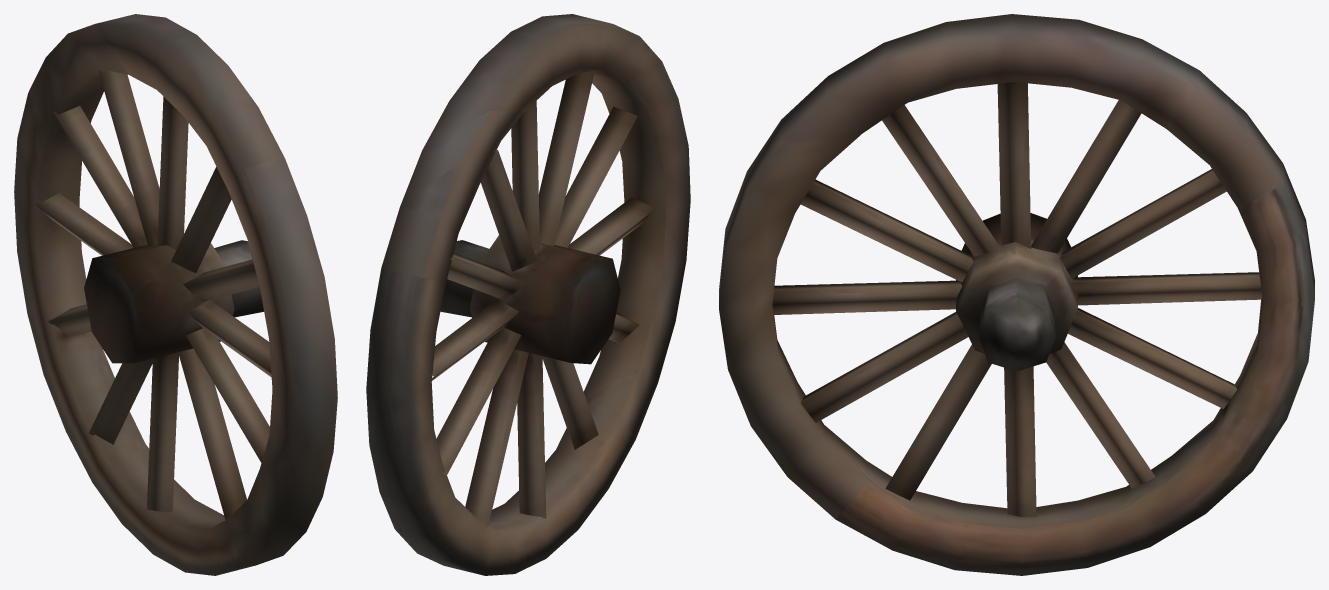
File: wheel.glb
3 views of the same model, side by side, from view 1: azimuth 30°, elevation 25°; view 2: azimuth 150°, elevation 25°; view 3: azimuth 270°, elevation 25° (orthographic). The views are drawn at different scales.
Parts seen in each view (by area): view 1: wheel; view 2: wheel; view 3: wheel.
Boxes of the visible parts, <box> form: wheel: <box>14,14,337,575</box>; wheel: <box>366,14,690,575</box>; wheel: <box>719,14,1314,575</box>.
Bounding box in the file's own units: 0.5872 × 2 × 2.
1 material, 1 textured.
